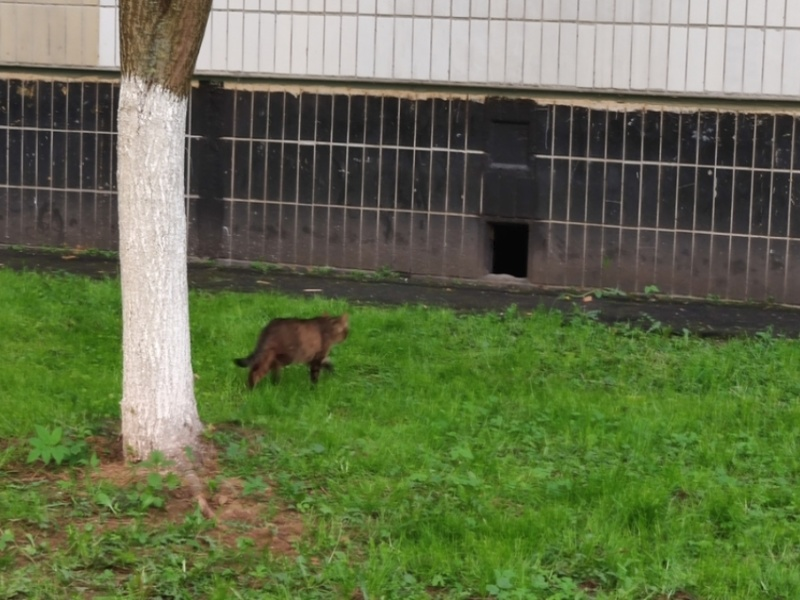cat: (232, 312, 354, 388)
